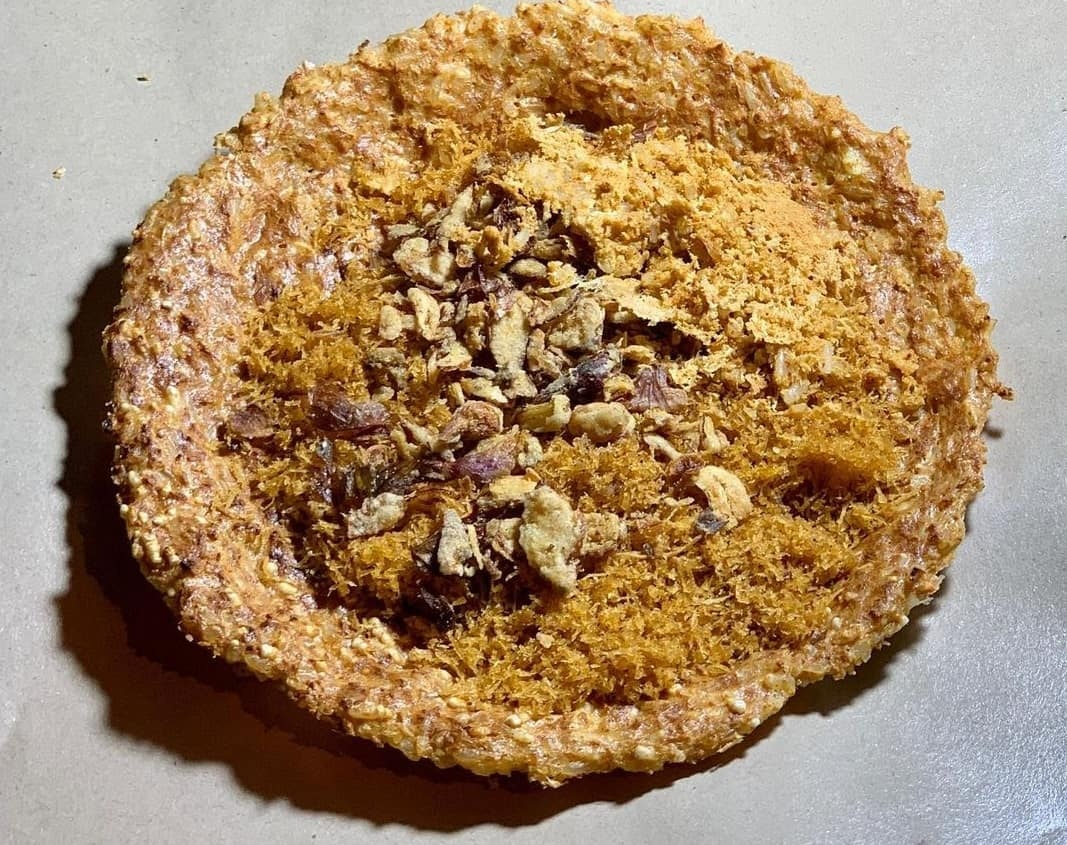kerak_telor: (99, 6, 981, 783)
